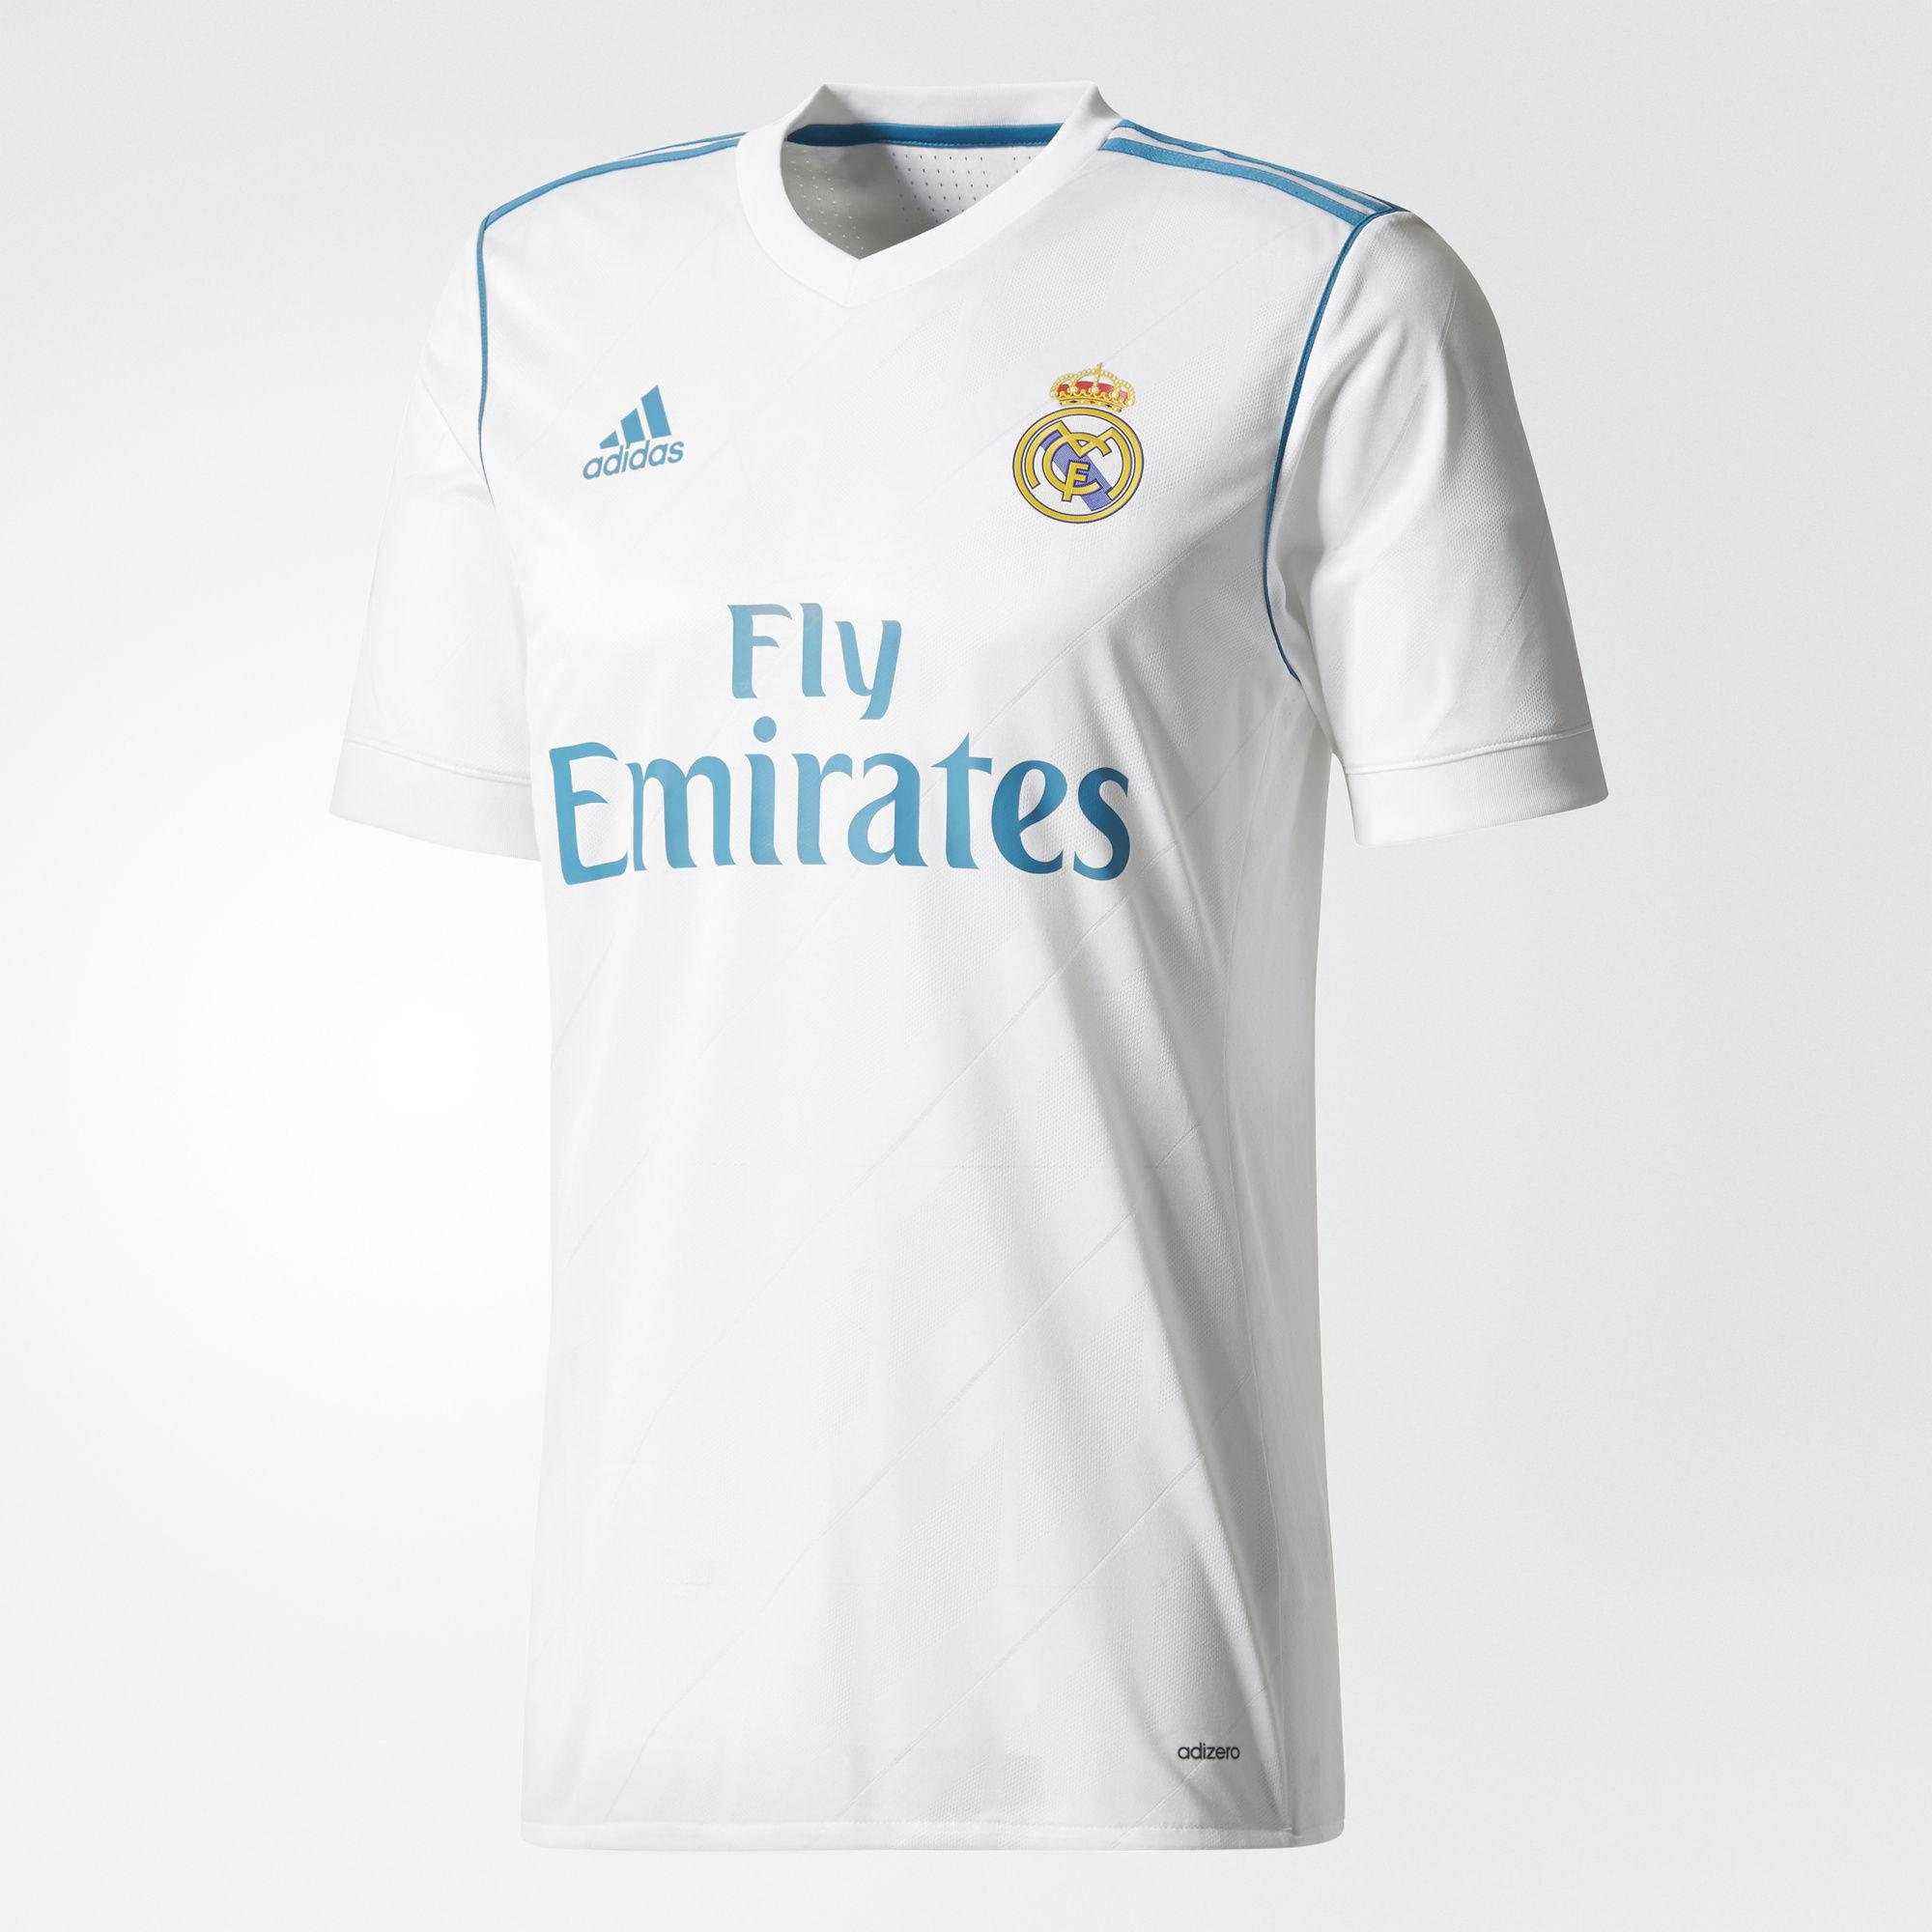teeshirt: (320, 76, 1640, 1914)
